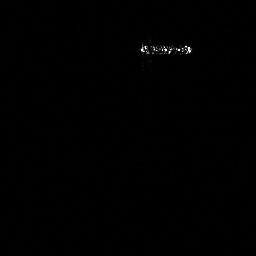ship: (136, 39, 195, 58)
